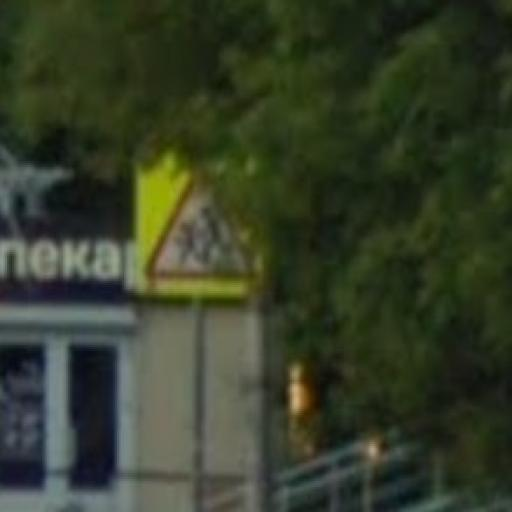traffic_sign: (143, 160, 262, 284)
